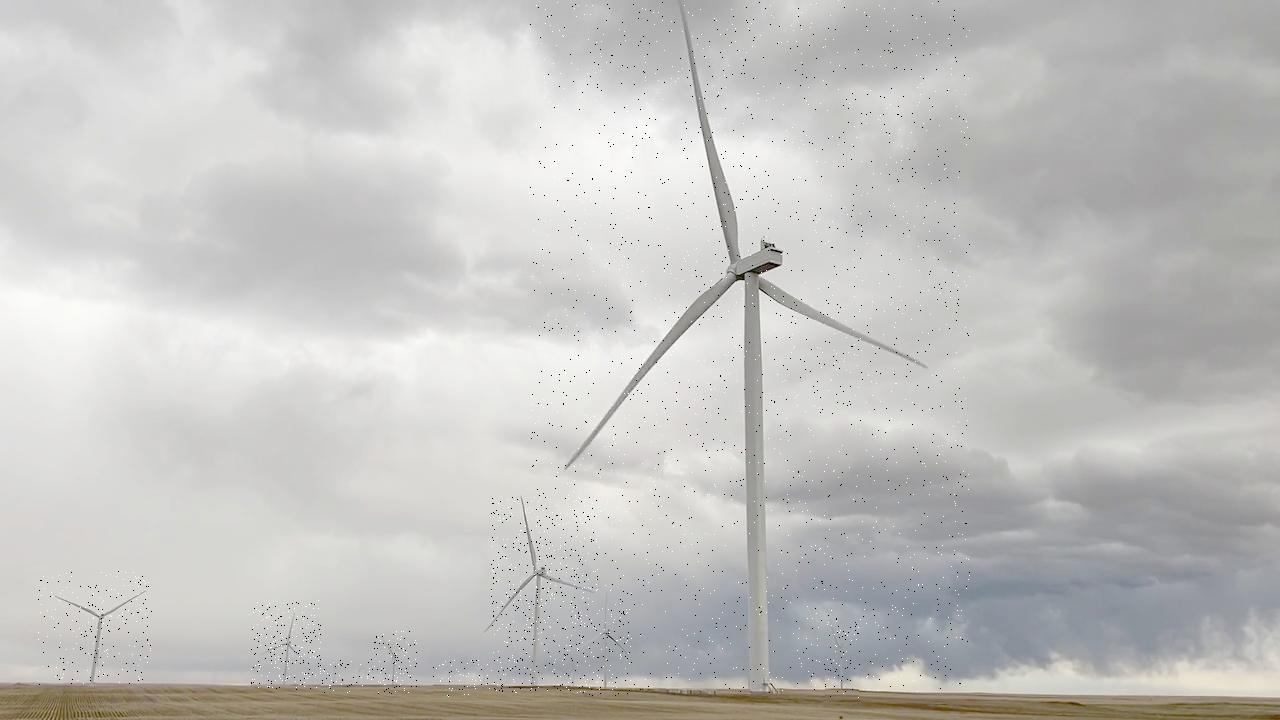turbine: (529, 0, 970, 693), (491, 497, 598, 693), (39, 571, 153, 685), (252, 601, 322, 691), (580, 593, 632, 697), (374, 631, 417, 696), (826, 620, 860, 699), (434, 661, 471, 698), (322, 660, 352, 693), (344, 659, 375, 689), (472, 661, 498, 693)
